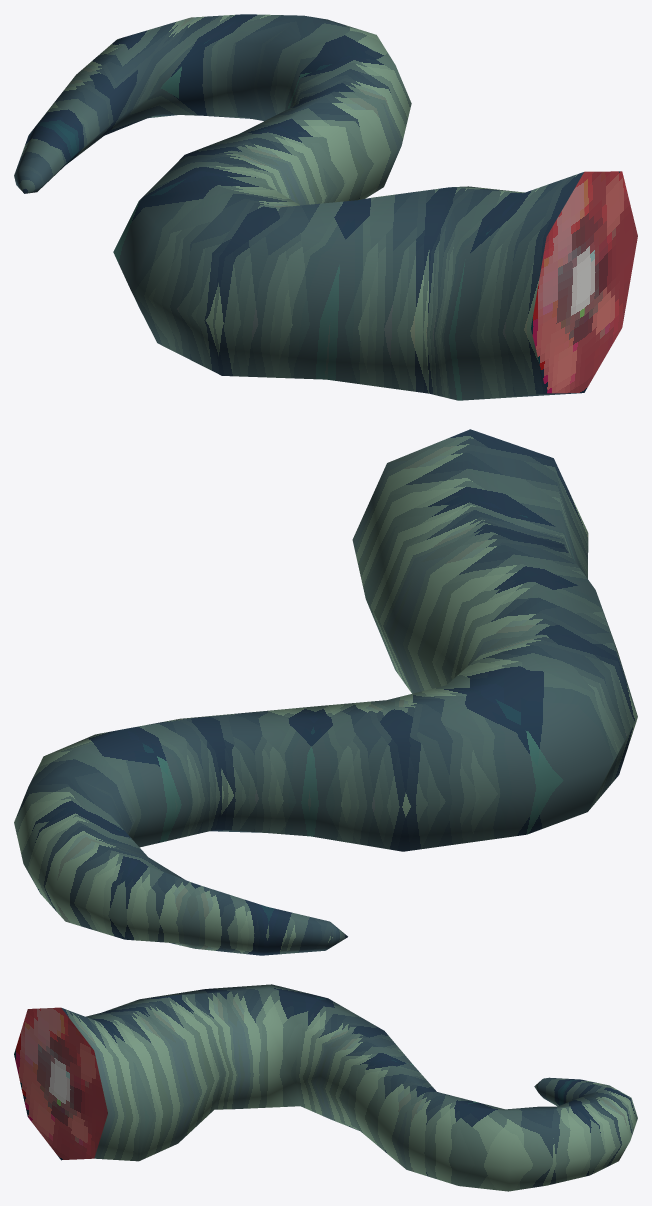
The model's file is Tentacle2.glb.
The picture shows the model from 3 angles, top to bottom: view 1: azimuth 30°, elevation 25°; view 2: azimuth 150°, elevation 25°; view 3: azimuth 270°, elevation 25°; orthographic projection. The views are drawn at different scales.
Visible parts, largest first — view 1: Tentacle2; view 2: Tentacle2; view 3: Tentacle2.
Part boxes in pixels (bbox=[...]): Tentacle2: bbox=[14, 14, 637, 400]; Tentacle2: bbox=[14, 429, 637, 955]; Tentacle2: bbox=[14, 984, 637, 1191].
Size of the model in its own units: 6.99 by 3.54 by 12.66.
Materials: 1 (1 with a texture image).
